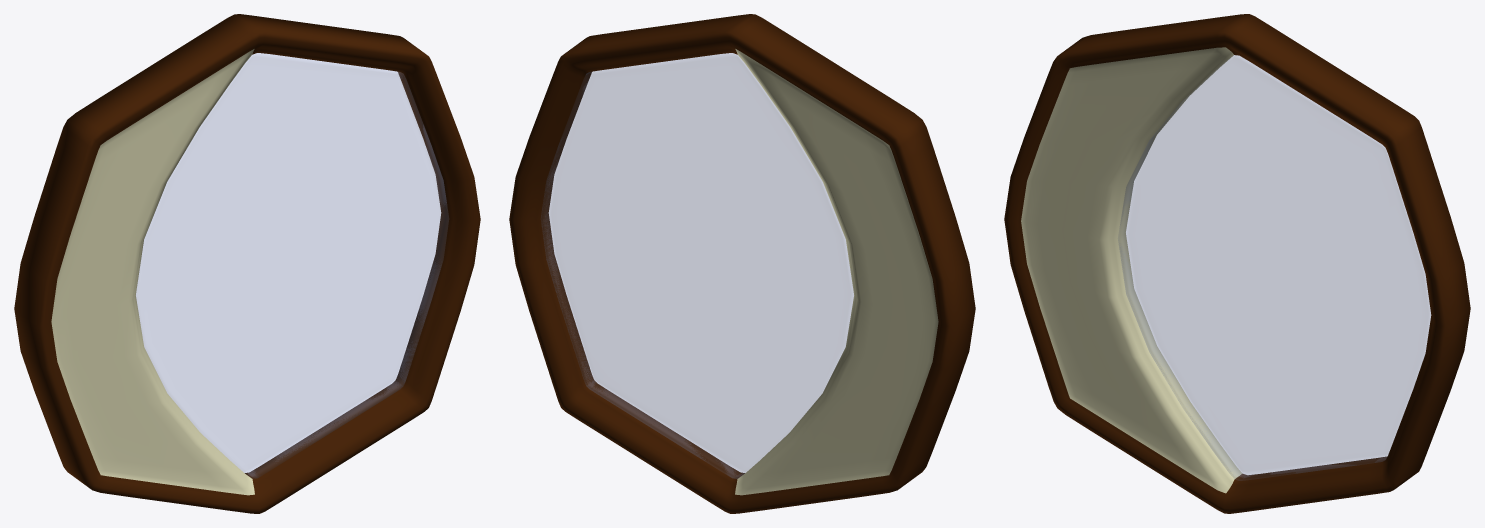
The model's file is ventanaconvidrio.fbx.
3 renders of one model, left to right at view 1: azimuth 30°, elevation 25°; view 2: azimuth 150°, elevation 25°; view 3: azimuth 330°, elevation 25°, orthographic.
Parts seen in each view (by area): view 1: vidrio.001, ventana.001; view 2: vidrio.001, ventana.001; view 3: vidrio.001, ventana.001.
Part boxes in pixels (left/top/right/bottom): vidrio.001: left=136, top=53, right=448, bottom=478; ventana.001: left=14, top=14, right=480, bottom=513; vidrio.001: left=541, top=53, right=853, bottom=478; ventana.001: left=509, top=14, right=975, bottom=513; vidrio.001: left=1118, top=55, right=1430, bottom=480; ventana.001: left=1004, top=14, right=1470, bottom=513.
Bounding box in the file's own units: 387 × 403 × 37.98.
